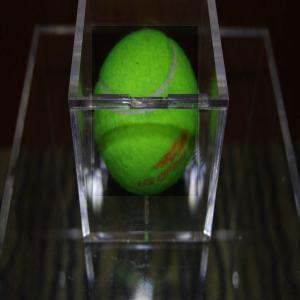TennisBall: (93, 27, 200, 198)
